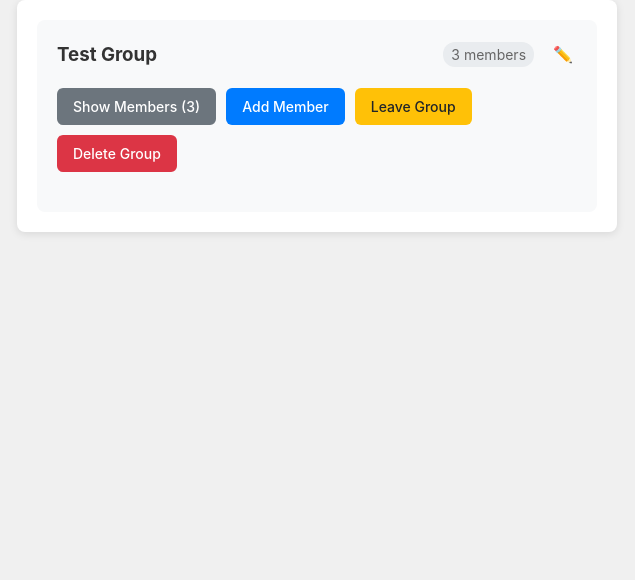
GroupManager › shows member list when show members button is clicked
Click the button "Show Members (3)": (137, 106) [57, 88, 216, 125]
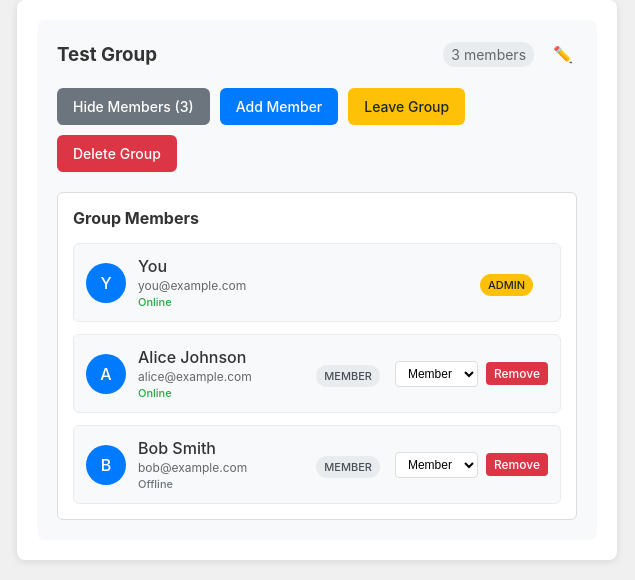
Check: the heading "Group Members" is shown, box [73, 208, 199, 228]
